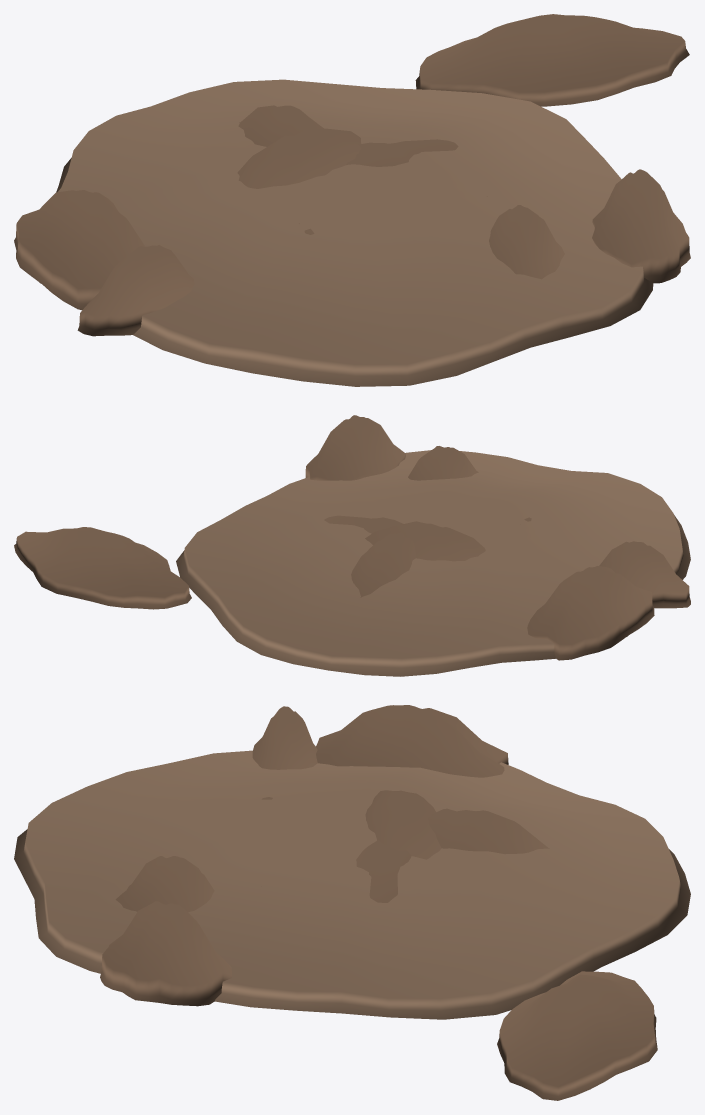
File: dirt_7.glb
3 views of the same model, one above another, from view 1: azimuth 30°, elevation 25°; view 2: azimuth 150°, elevation 25°; view 3: azimuth 270°, elevation 25° (orthographic). The views are drawn at different scales.
Parts seen in each view (by area): view 1: dirt_7; view 2: dirt_7; view 3: dirt_7.
Part boxes in pixels (<box>): dirt_7: <box>14,14,690,386</box>; dirt_7: <box>14,415,690,676</box>; dirt_7: <box>14,705,690,1100</box>.
Bounding box in the file's own units: 0.7196 × 0.0736 × 0.5795.
